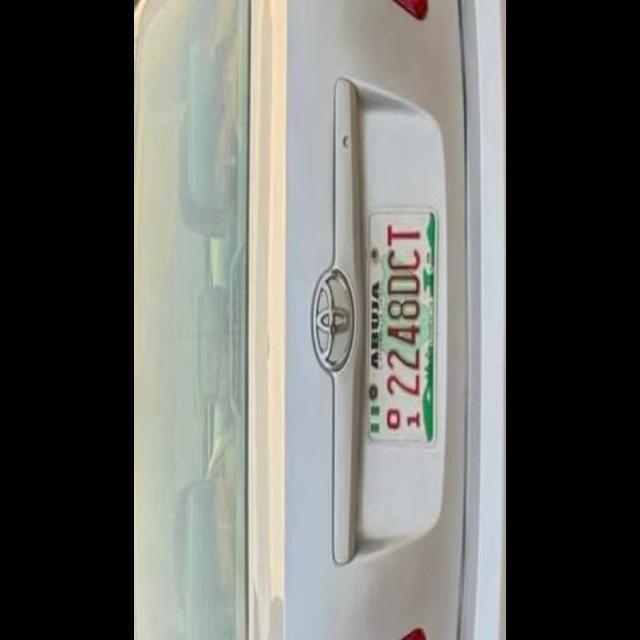Nigerian License Plate - vdataset benjamin-daria: (362, 200, 439, 448)
